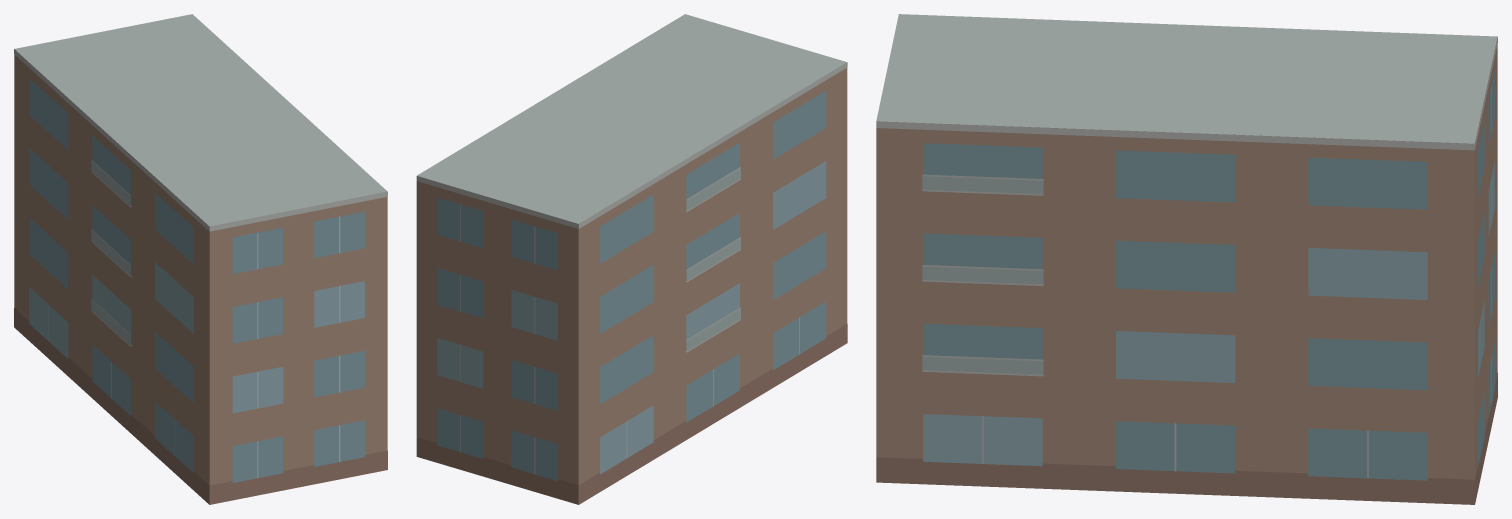
The model's file is survey-upis-32996922.glb.
The picture shows the model from 3 angles, left to right: view 1: azimuth 30°, elevation 25°; view 2: azimuth 150°, elevation 25°; view 3: azimuth 270°, elevation 25°; orthographic projection. The views are drawn at different scales.
Visible parts, largest first — view 1: survey-upis-32996922.tmp; view 2: survey-upis-32996922.tmp; view 3: survey-upis-32996922.tmp.
Part boxes in pixels (x1,y1,x2,y2): survey-upis-32996922.tmp: [14, 14, 387, 504]; survey-upis-32996922.tmp: [416, 14, 847, 504]; survey-upis-32996922.tmp: [876, 14, 1497, 504].
Bounding box in the file's own units: 10.18 × 13.2 × 20.6.
